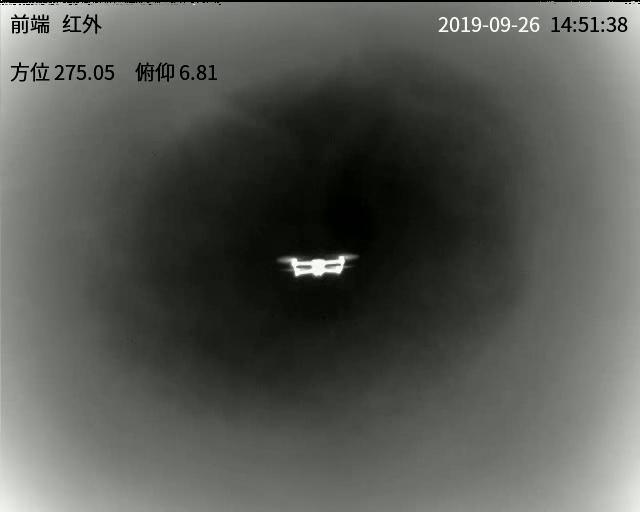DRONE: (280, 254, 353, 278)
